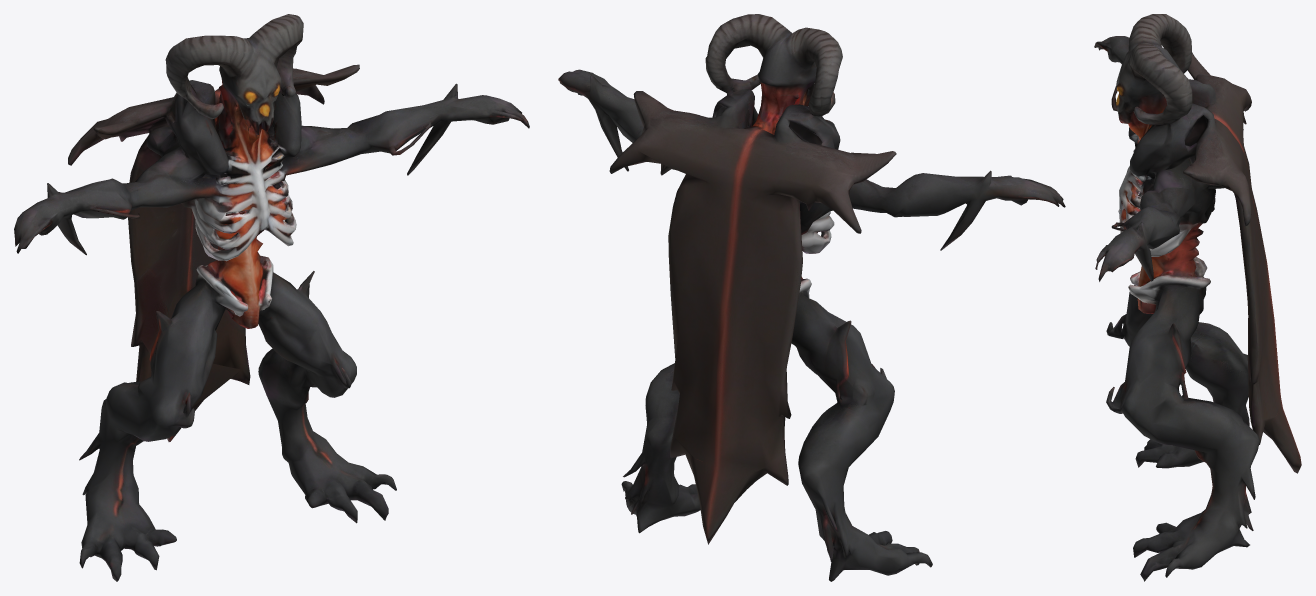
File: revenant.glb
3 views of the same model, side by side, from view 1: azimuth 30°, elevation 25°; view 2: azimuth 150°, elevation 25°; view 3: azimuth 270°, elevation 25° (orthographic). The views are drawn at different scales.
Size of the model in its own units: 2 by 1.95 by 0.7527.
Materials: 1 (1 with a texture image).
